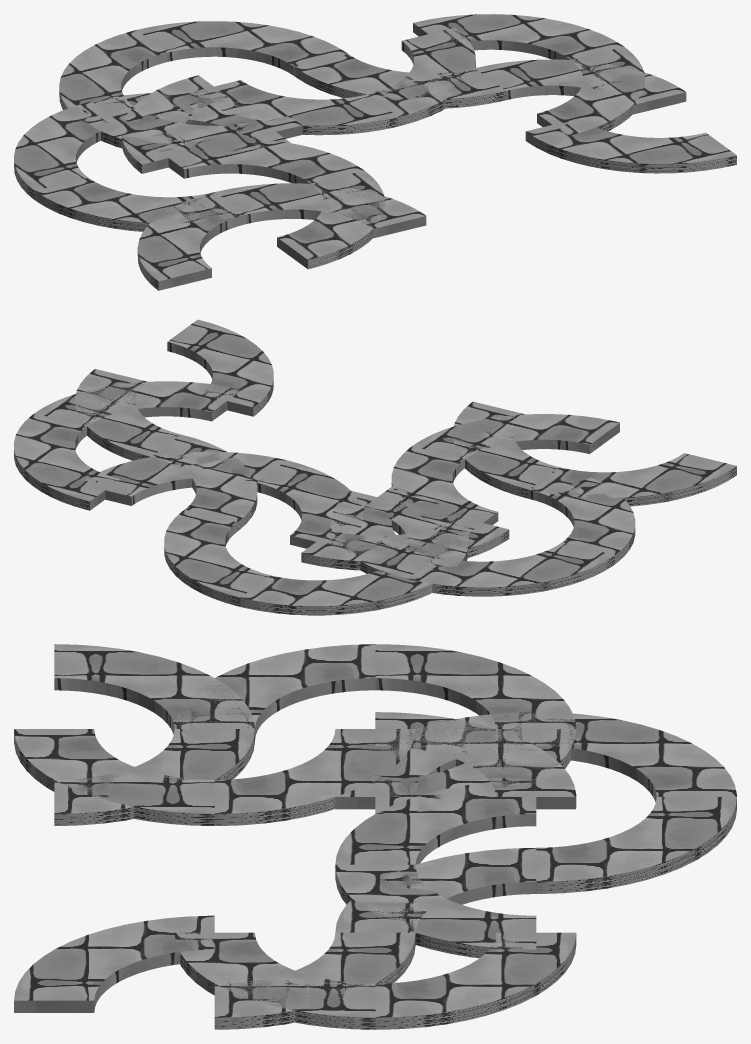
The model's file is Whitebox (1).fbx.
3 views of the same model, one above another, from view 1: azimuth 30°, elevation 25°; view 2: azimuth 150°, elevation 25°; view 3: azimuth 270°, elevation 25° (orthographic). The views are drawn at different scales.
Parts seen in each view (by area): view 1: Whitebox__1_; view 2: Whitebox__1_; view 3: Whitebox__1_.
Part boxes in pixels (x1,y1,x2,y2): Whitebox__1_: (14,14,736,290); Whitebox__1_: (14,319,736,615); Whitebox__1_: (14,644,736,1029).
Bounding box in the file's own units: 2200 × 33.71 × 1800.
1 material, 1 textured.
